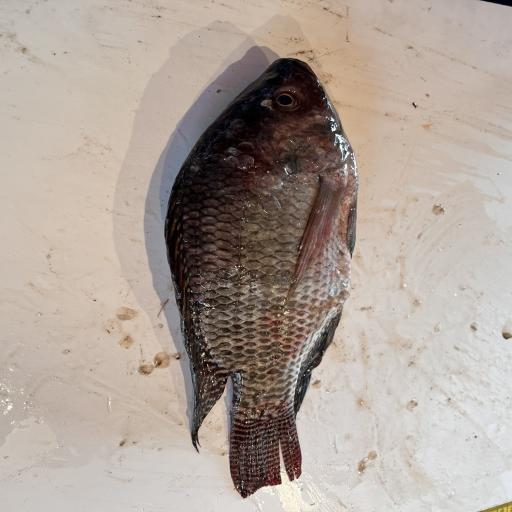Tilapia: (164, 58, 360, 499)
